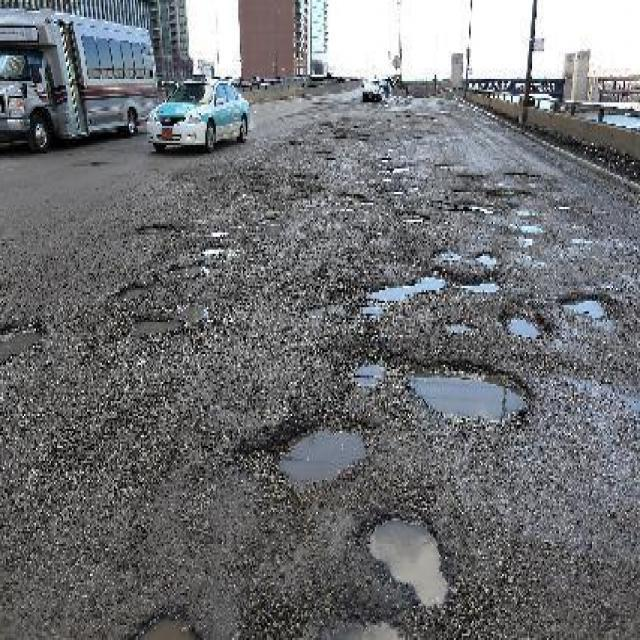pothole: (351, 494, 476, 628), (391, 346, 543, 443), (249, 403, 381, 502), (403, 352, 535, 427), (364, 508, 453, 609), (271, 414, 375, 489), (116, 250, 217, 310), (364, 256, 451, 319), (116, 602, 200, 639), (366, 269, 450, 303), (134, 599, 206, 638), (347, 349, 396, 403), (0, 318, 50, 364), (497, 307, 555, 346), (1, 316, 45, 363), (452, 164, 489, 219), (556, 287, 612, 323), (494, 164, 540, 207), (501, 303, 552, 340), (556, 288, 612, 320), (108, 275, 157, 307), (453, 273, 502, 300), (128, 311, 185, 333), (454, 273, 504, 297), (488, 184, 535, 208), (336, 184, 375, 212), (397, 206, 432, 235), (170, 256, 206, 284), (138, 216, 175, 243), (334, 189, 379, 211), (451, 197, 491, 221), (132, 312, 180, 332), (397, 203, 430, 231), (496, 170, 536, 188), (474, 248, 501, 272), (474, 248, 503, 267), (453, 171, 486, 186)
